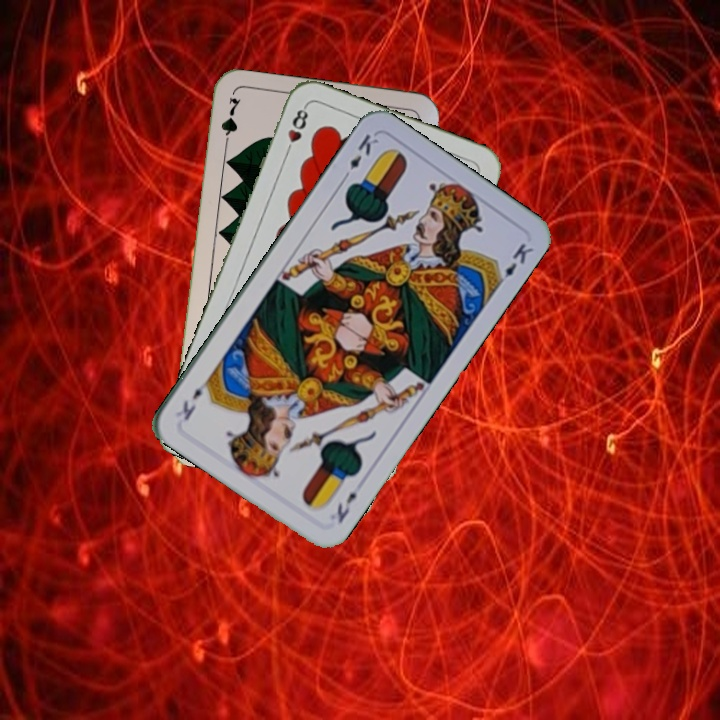EK: (339, 130, 381, 183), (332, 488, 360, 526)
G7: (216, 93, 243, 152)
H8: (281, 102, 311, 159)
